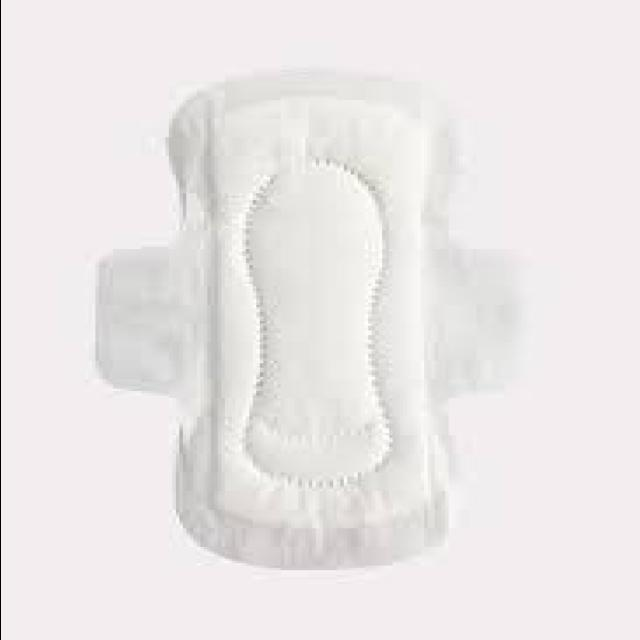napkin: (92, 81, 518, 569)
